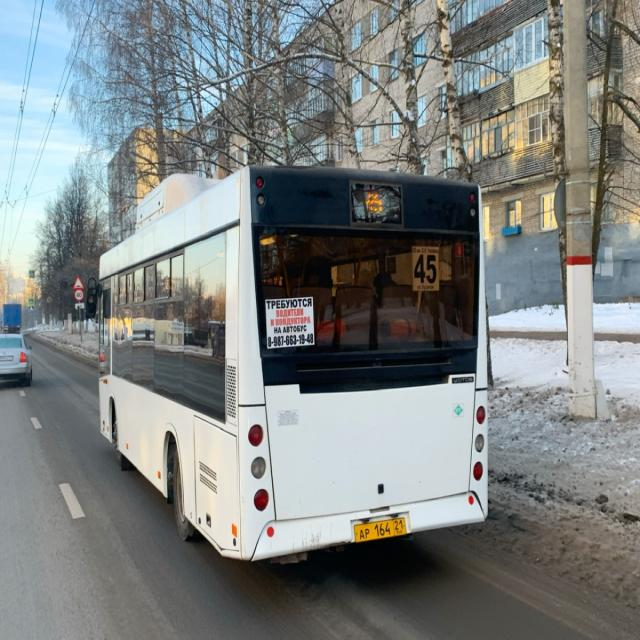number-of-bus: (413, 247, 440, 292)
